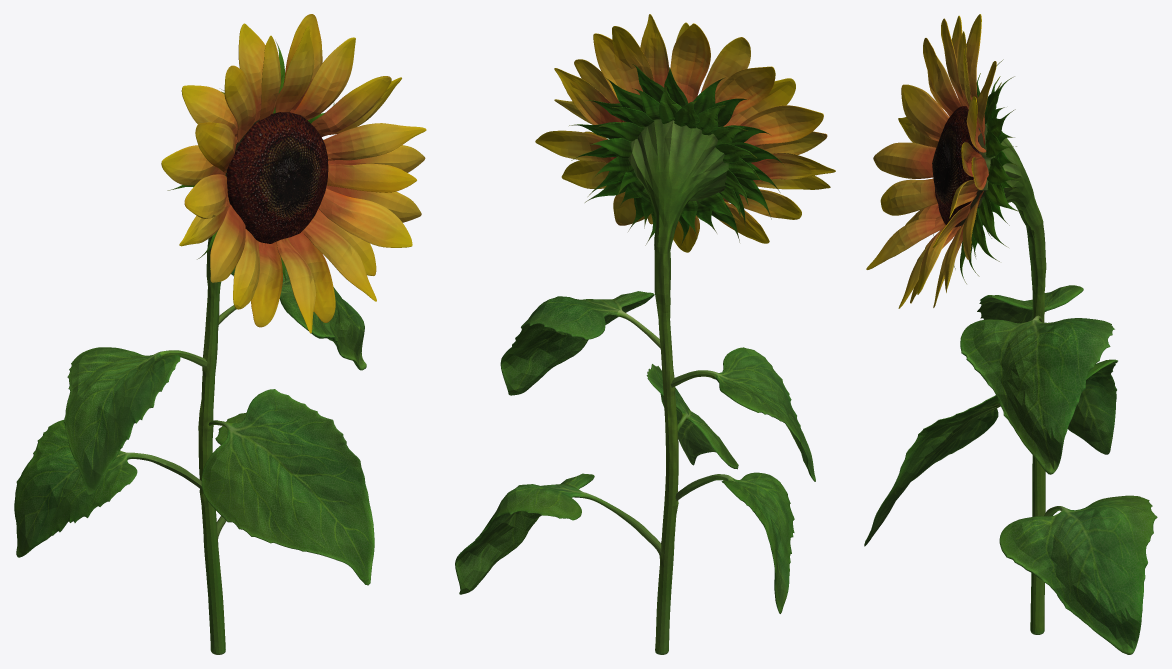
File: подсолнух.glb
3 renders of one model, left to right at view 1: azimuth 30°, elevation 25°; view 2: azimuth 150°, elevation 25°; view 3: azimuth 270°, elevation 25°, orthographic. The views are drawn at different scales.
Visible parts, largest first — view 1: Mesh_0; view 2: Mesh_0; view 3: Mesh_0.
Part boxes in pixels (x1,y1,x2,y2): Mesh_0: (14,14,426,654); Mesh_0: (455,14,835,654); Mesh_0: (864,14,1157,654).
Bounding box in the file's own units: 1.35 × 2.5 × 1.08.
Materials: 1 (1 with a texture image).
